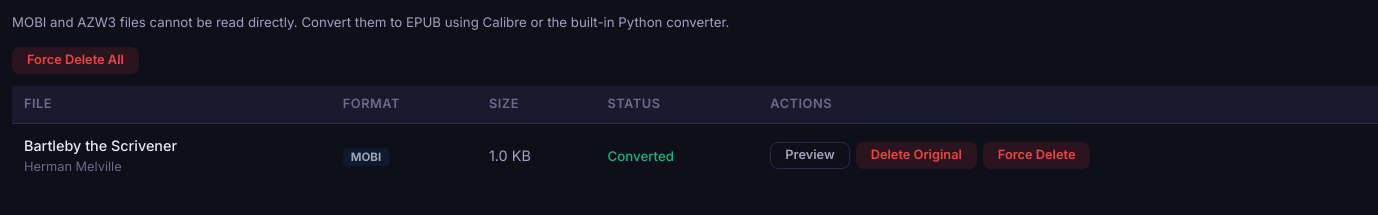
Test: UnsupportedFilesPanel — the other actions › reports a failed Delete Original against the file
What coordinates should you click on to do the following:
click the button "Delete Original"
I would click on:
 (916, 155)
Its box is [856,142,977,169].
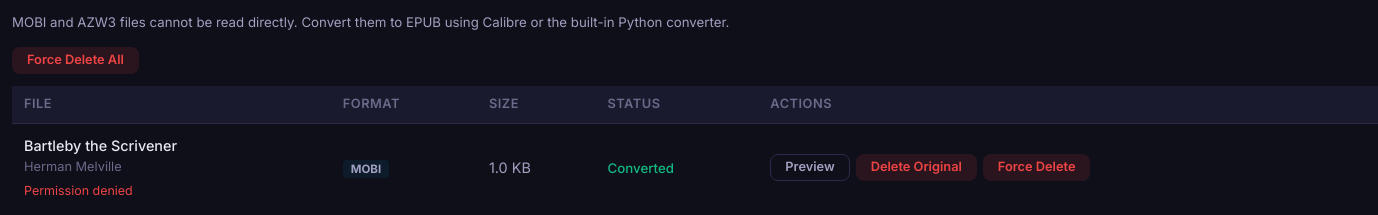
Expected: the text "Permission denied" is shown, [24,183,133,198]
